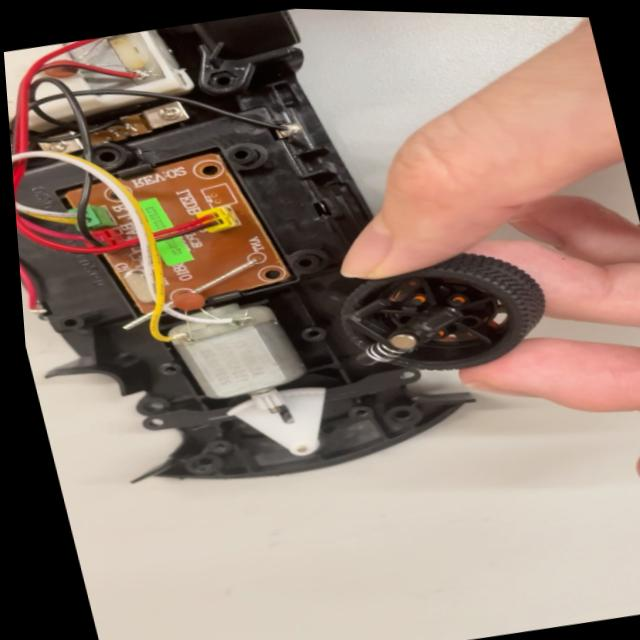motor: (165, 285, 322, 434)
wheel: (323, 243, 546, 402)
